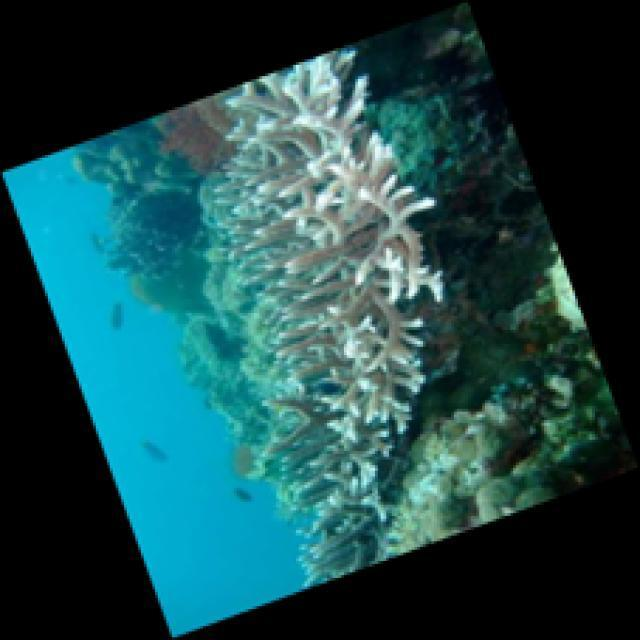Bleached: (222, 49, 447, 522)
